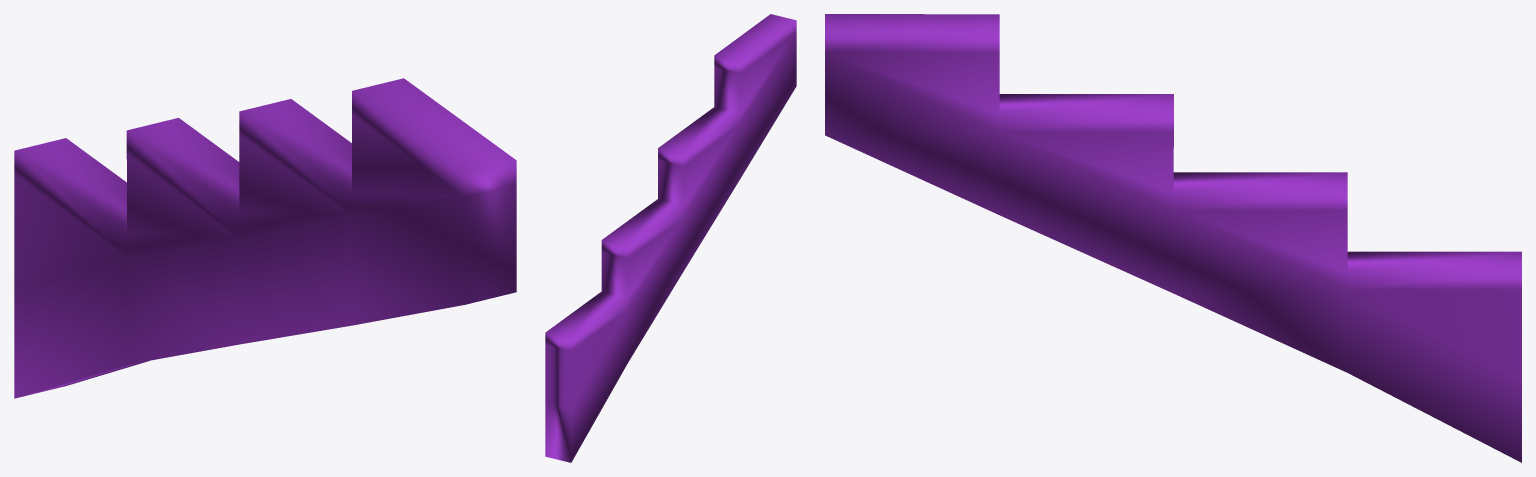
File: Stairs_03_Side_Lod0.fbx
The picture shows the model from 3 angles, left to right: view 1: azimuth 30°, elevation 25°; view 2: azimuth 150°, elevation 25°; view 3: azimuth 270°, elevation 25°; orthographic projection. The views are drawn at different scales.
Parts seen in each view (by area): view 1: Stairs_03_Side_Lod0; view 2: Stairs_03_Side_Lod0; view 3: Stairs_03_Side_Lod0.
Part boxes in pixels (x1,y1,x2,y2): Stairs_03_Side_Lod0: (14,78,516,398); Stairs_03_Side_Lod0: (545,14,796,462); Stairs_03_Side_Lod0: (825,14,1521,462).
Bounding box in the file's own units: 9.97 × 102 × 150.
